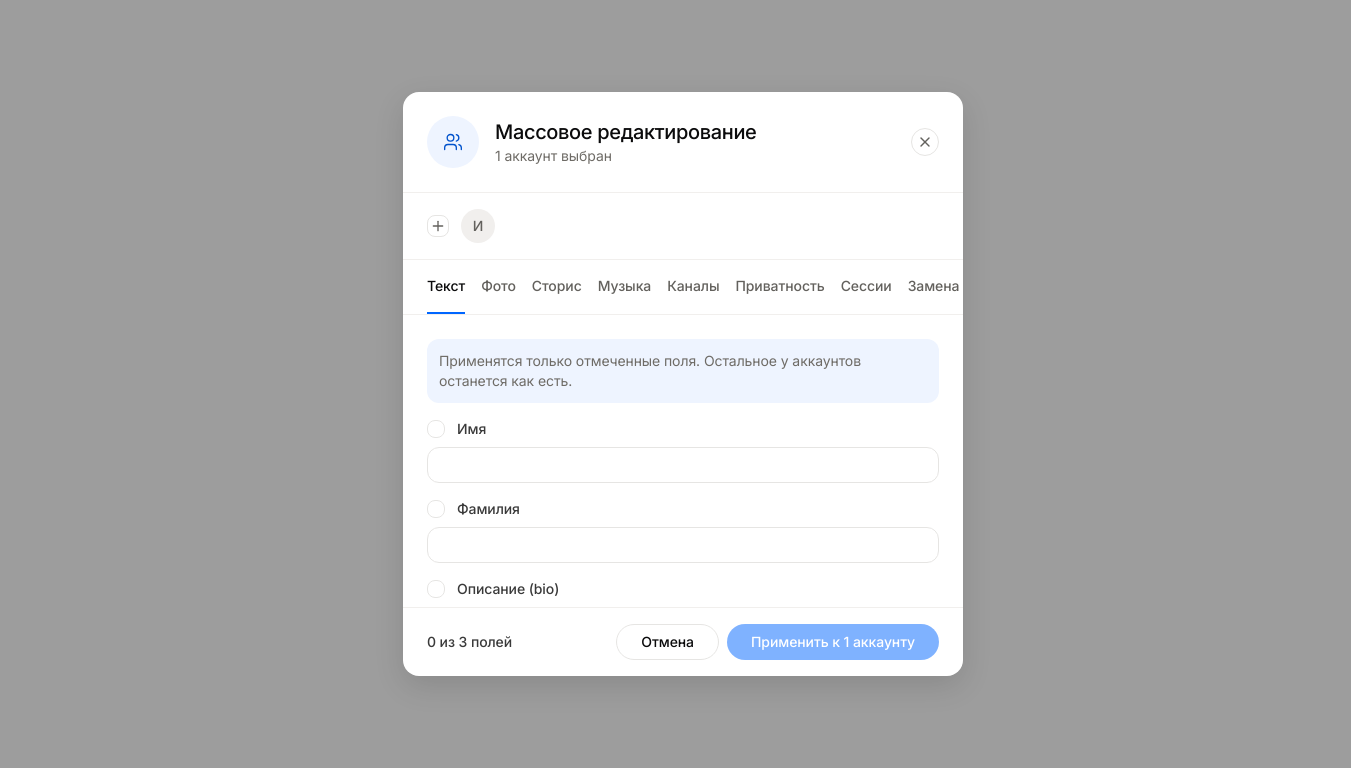
Scenario: close-all tells a first-time list, new sessions and a running sign-in per account
Click the button named "Добавить аккаунты" at point(438, 226), box x1=427 y1=215 x2=449 y2=237
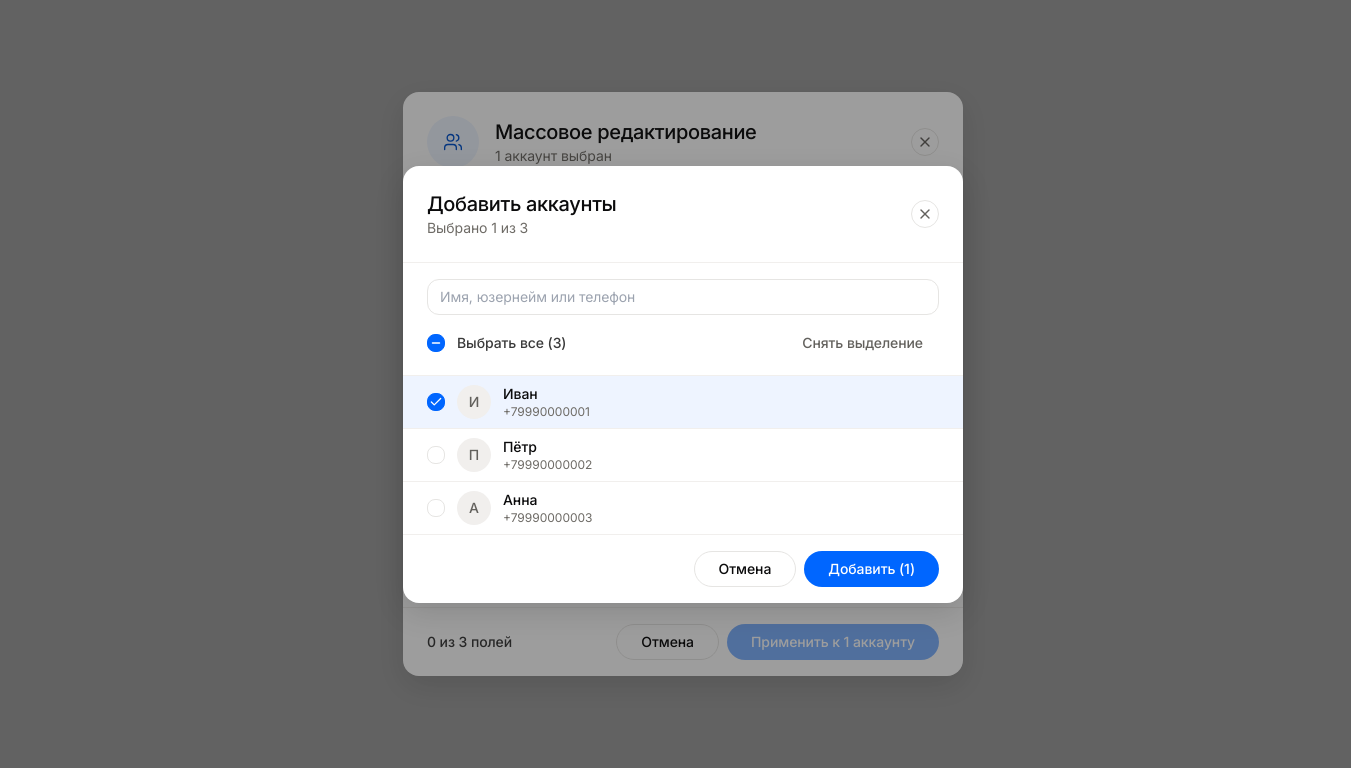
expect the checkbox labelled "Выбрать все (3)" is shown: met
Click the checkbox labelled "Выбрать все (3)" at point(497, 342), box x1=427 y1=332 x2=566 y2=352
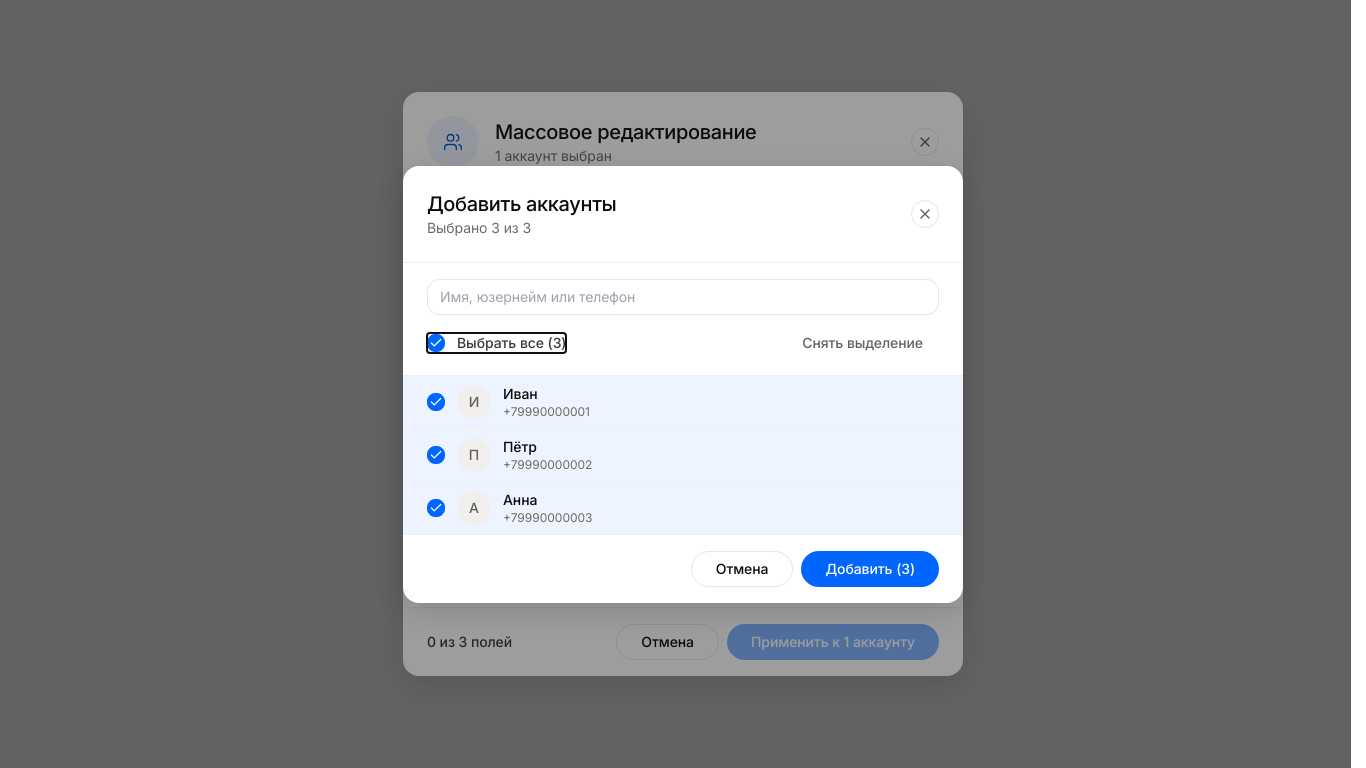
Click the button "Добавить (3)" at point(870, 568), box x1=801 y1=550 x2=939 y2=586
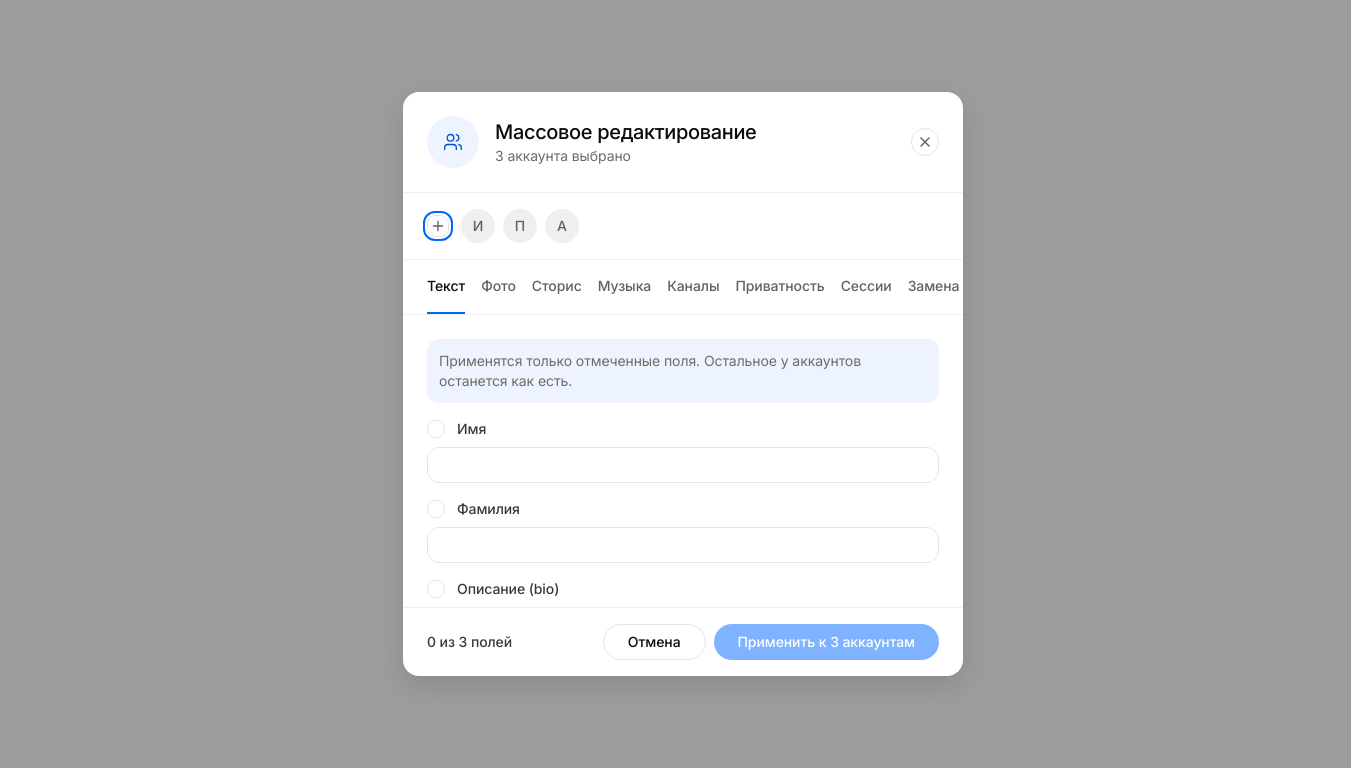
Click the tab "Сессии" at point(866, 287), box x1=841 y1=260 x2=892 y2=314
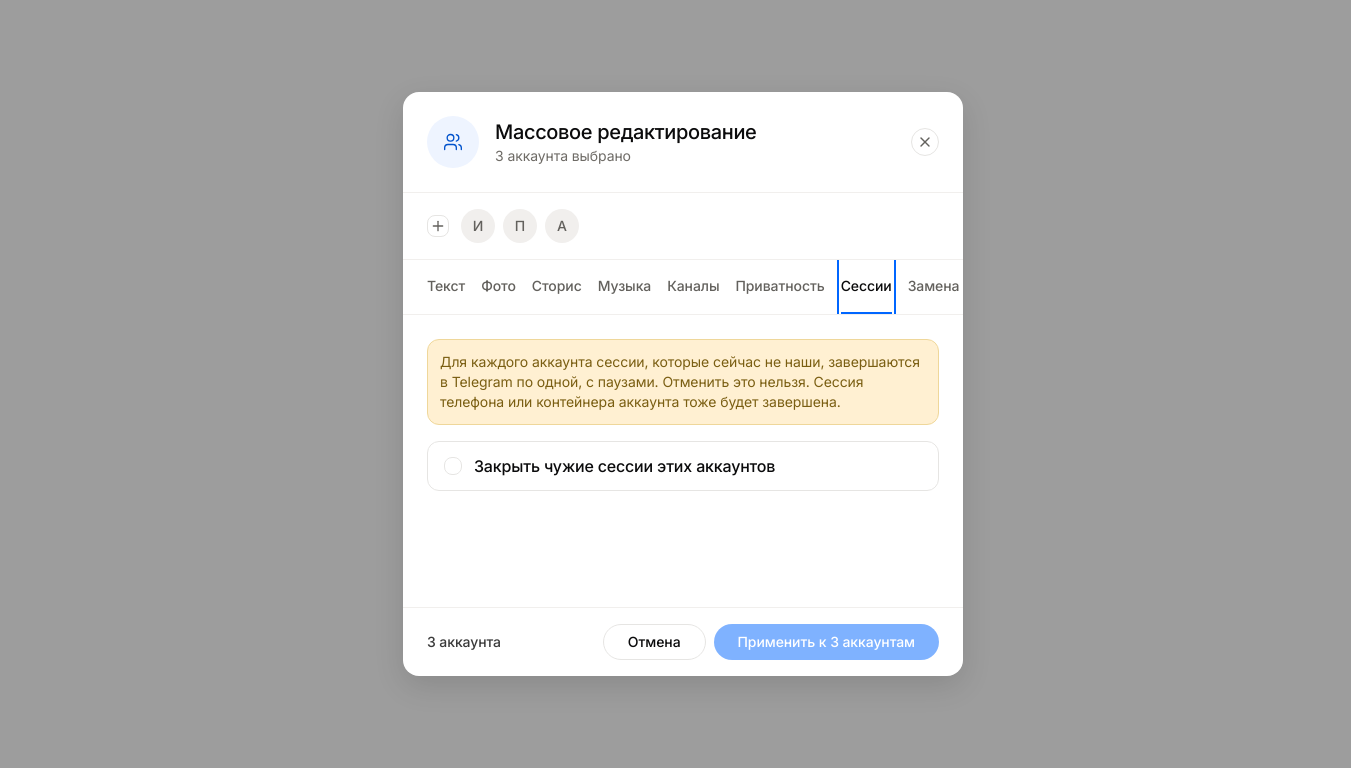
Click the checkbox labelled "Закрыть чужие сессии этих аккаунтов" at point(683, 466), box x1=427 y1=441 x2=939 y2=491
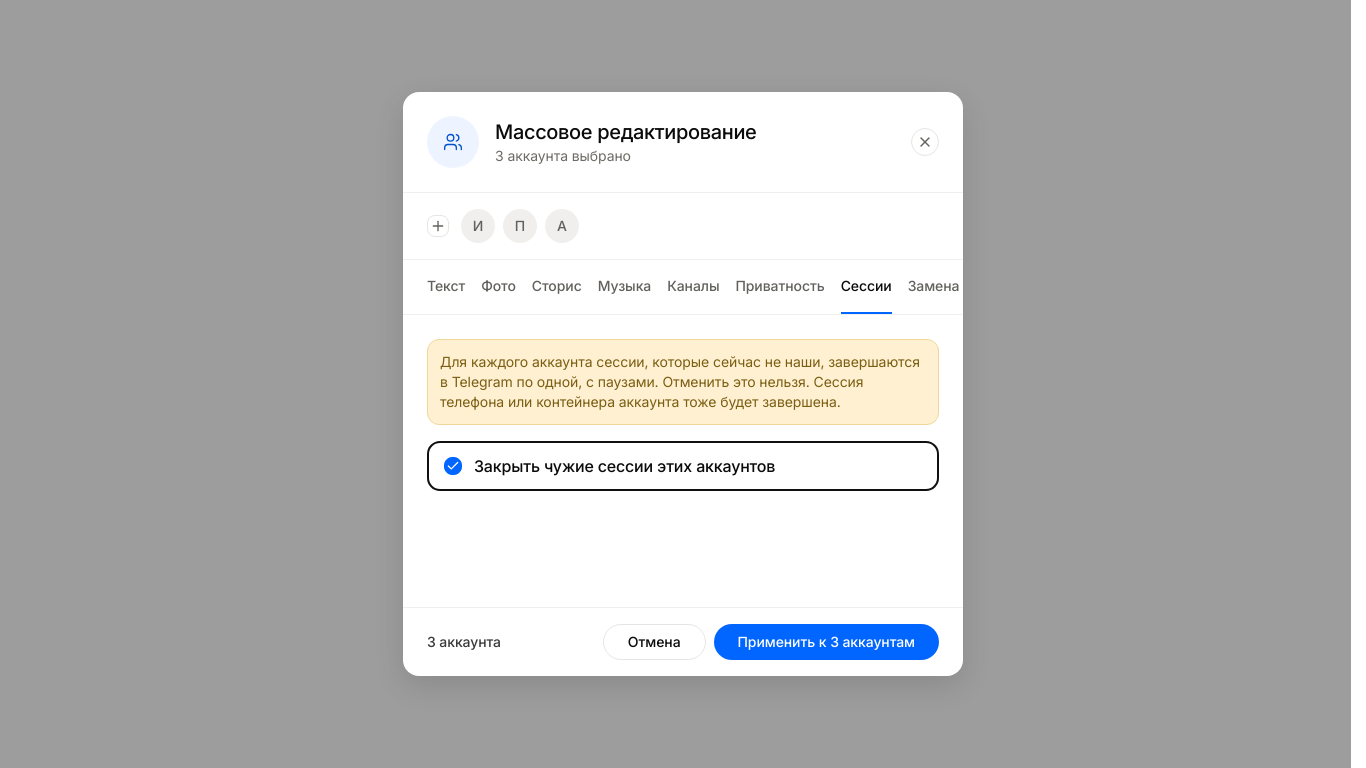
Click the button "Применить к 3 аккаунтам" at point(826, 642), box x1=714 y1=624 x2=939 y2=660
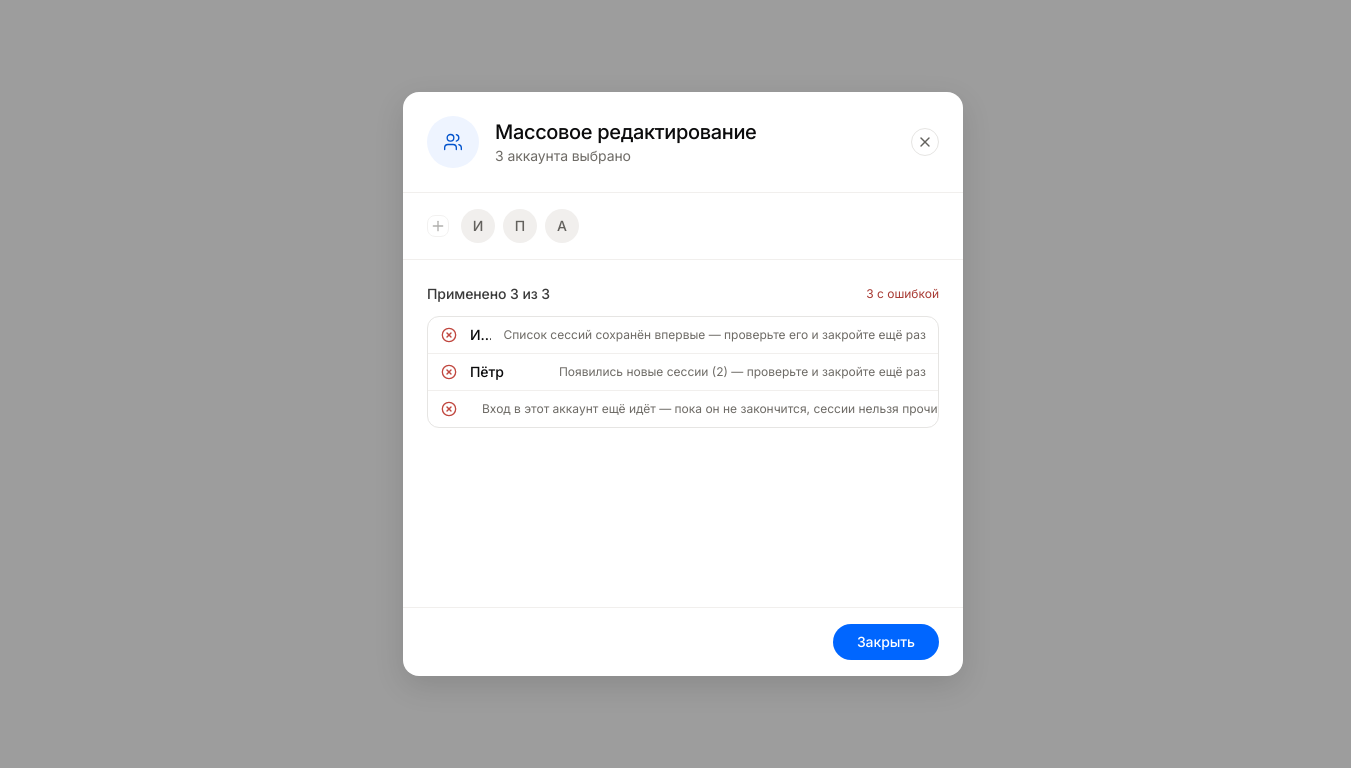
expect the text "3 с ошибкой" is shown: met, box x1=866 y1=286 x2=939 y2=302
expect the text "Список сессий сохранён впервые — проверьте его" is shown: met, box x1=504 y1=327 x2=926 y2=342
expect the text "Появились новые сессии (2) — проверьте и закройте ещё раз" is shown: met, box x1=559 y1=364 x2=926 y2=380
